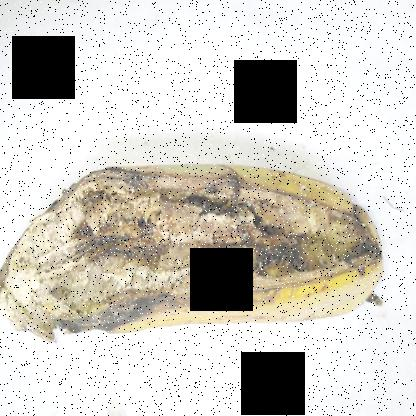rotten: (1, 140, 386, 369)
